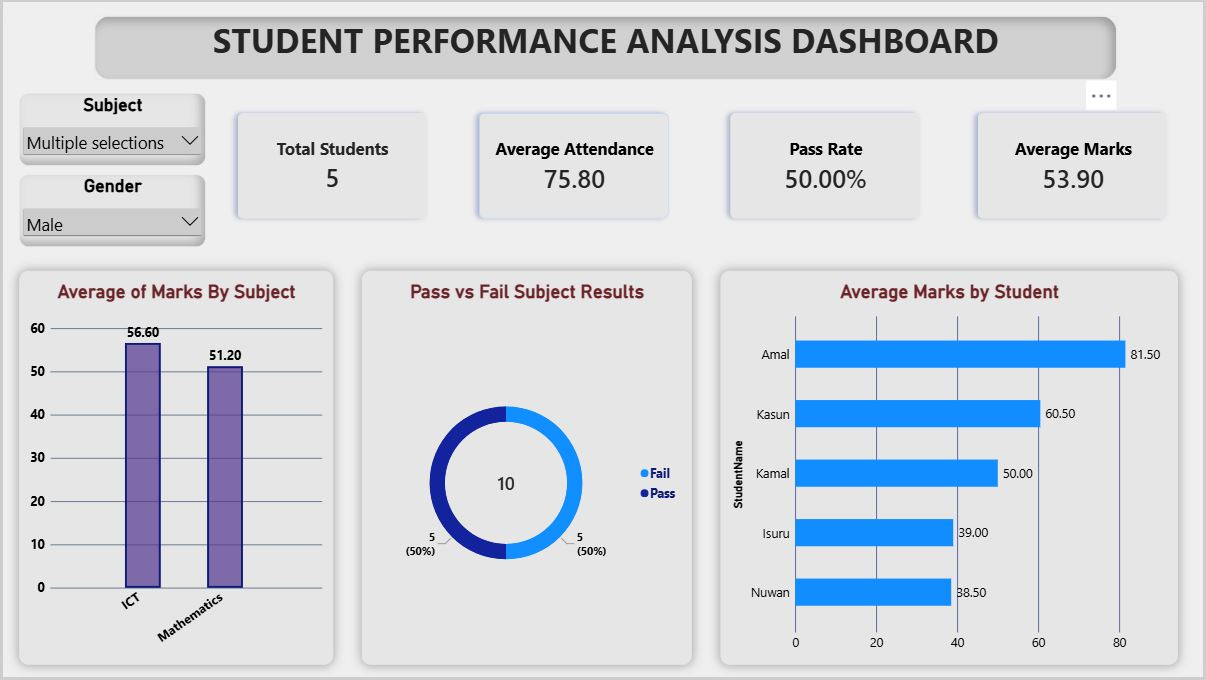

What the dashboard file says about the page in this screenshot:
{"tool":"powerbi","page":{"name":"Page 1","canvas":[1920,1080],"ordinal":0},"visuals":[{"type":"textbox","title":"STUDENT PERFORMANCE ANALYSIS DASHBOARD","box":[146,22,1636,102],"z":0},{"type":"cardVisual","title":"Total Student","fields":{"Data":["StudentData.Total Students"]},"box":[360,162,335,200],"z":1000},{"type":"cardVisual","fields":{"Data":["StudentData.Pass Rate"]},"box":[1148,162,335,200],"z":2000},{"type":"cardVisual","fields":{"Data":["StudentData.Average Attendance"]},"box":[746,162,335,200],"z":3000},{"type":"cardVisual","fields":{"Data":["StudentData.Average Marks"]},"box":[1544,162,335,200],"z":4000},{"type":"clusteredColumnChart","title":"Average of Marks By Subject","fields":{"Category":["StudentData.Subject"],"Y":["Avg(StudentData.Marks)"]},"box":[26,430,502,630],"z":5000},{"type":"donutChart","title":"Pass vs Fail Subject Results","fields":{"Category":["StudentData.Result"],"Y":["CountNonNull(StudentData.StudentID)"]},"box":[574,430,528,630],"z":6000},{"type":"clusteredBarChart","title":"Average Marks by Student","fields":{"Category":["StudentData.StudentName"],"Y":["Avg(StudentData.Marks)"]},"box":[1148,430,732,630],"z":7000},{"type":"slicer","title":"Subject","fields":{"Values":["StudentData.Subject"]},"box":[26,146,298,116],"z":8000},{"type":"slicer","title":"Gender","fields":{"Values":["StudentData.Gender"]},"box":[26,276,298,116],"z":9000}]}

Visuals, with their boxes in screenshot pixels (x1, y1, x2, y2), scaled from the page's 1920x1080 canvas onto the 1206x680 screenshot:
"STUDENT PERFORMANCE ANALYSIS DASHBOARD" textbox: <region>92, 14, 1119, 78</region>
"Total Student" cardVisual: <region>226, 102, 437, 228</region>
cardVisual - StudentData.Pass Rate: <region>721, 102, 932, 228</region>
cardVisual - StudentData.Average Attendance: <region>469, 102, 679, 228</region>
cardVisual - StudentData.Average Marks: <region>970, 102, 1180, 228</region>
"Average of Marks By Subject" clusteredColumnChart: <region>16, 271, 332, 667</region>
"Pass vs Fail Subject Results" donutChart: <region>361, 271, 692, 667</region>
"Average Marks by Student" clusteredBarChart: <region>721, 271, 1181, 667</region>
"Subject" slicer: <region>16, 92, 204, 165</region>
"Gender" slicer: <region>16, 174, 204, 247</region>
